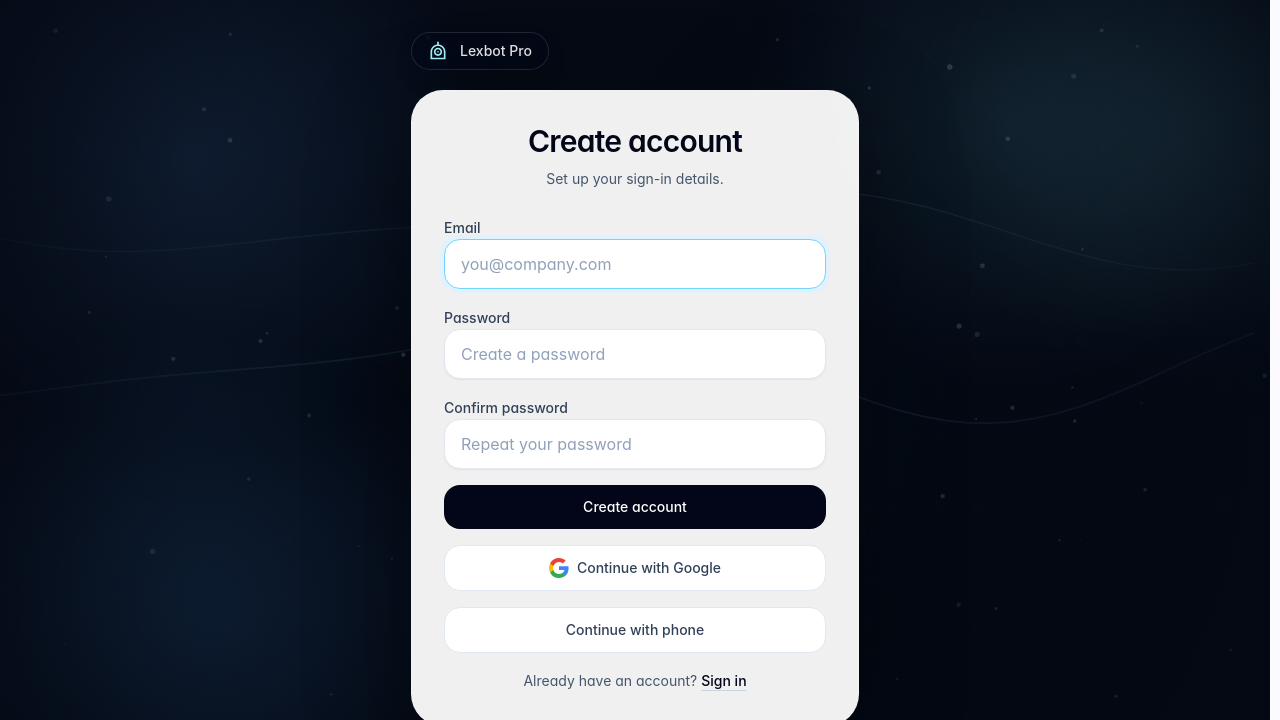
it: SignupPage › blocks submit when passwords don't match
The width and height of the screenshot is (1280, 720).
Type "new@example.com" into the field labelled "Email" at (635, 264), box [444,239,826,289]
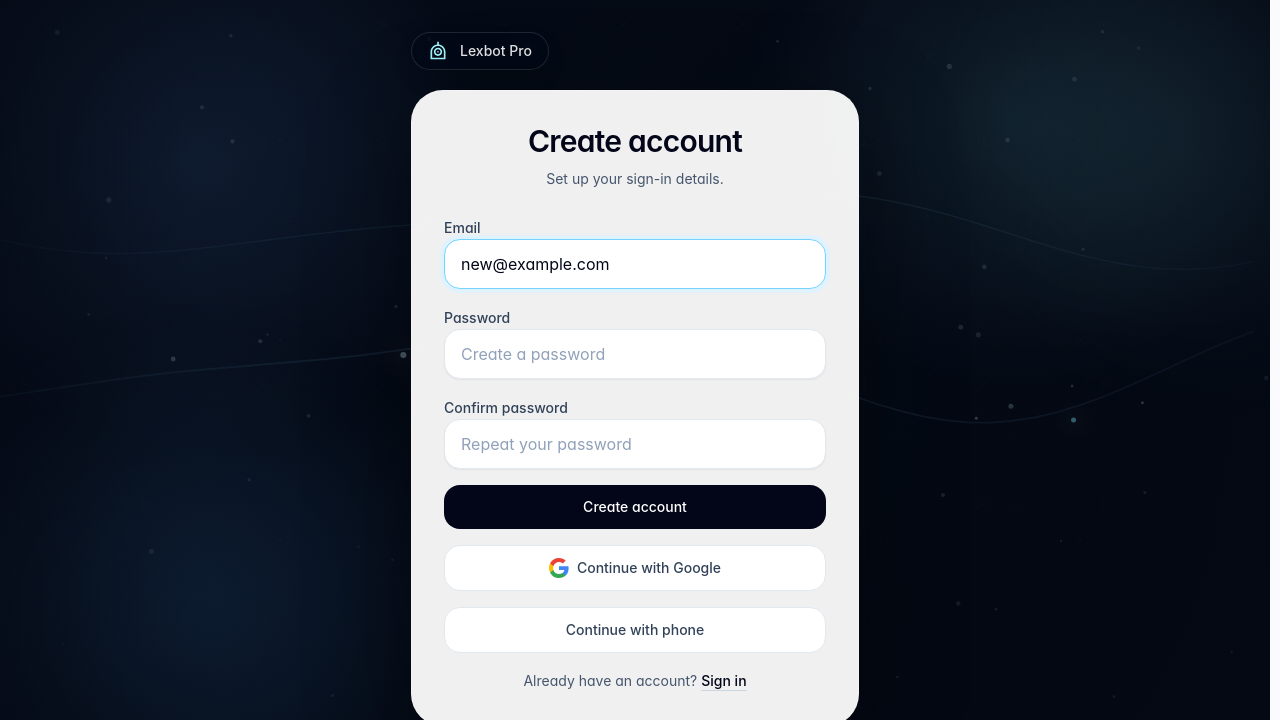
Type "secret123" into the password field labelled "Password" at (635, 354), box [444,329,826,379]
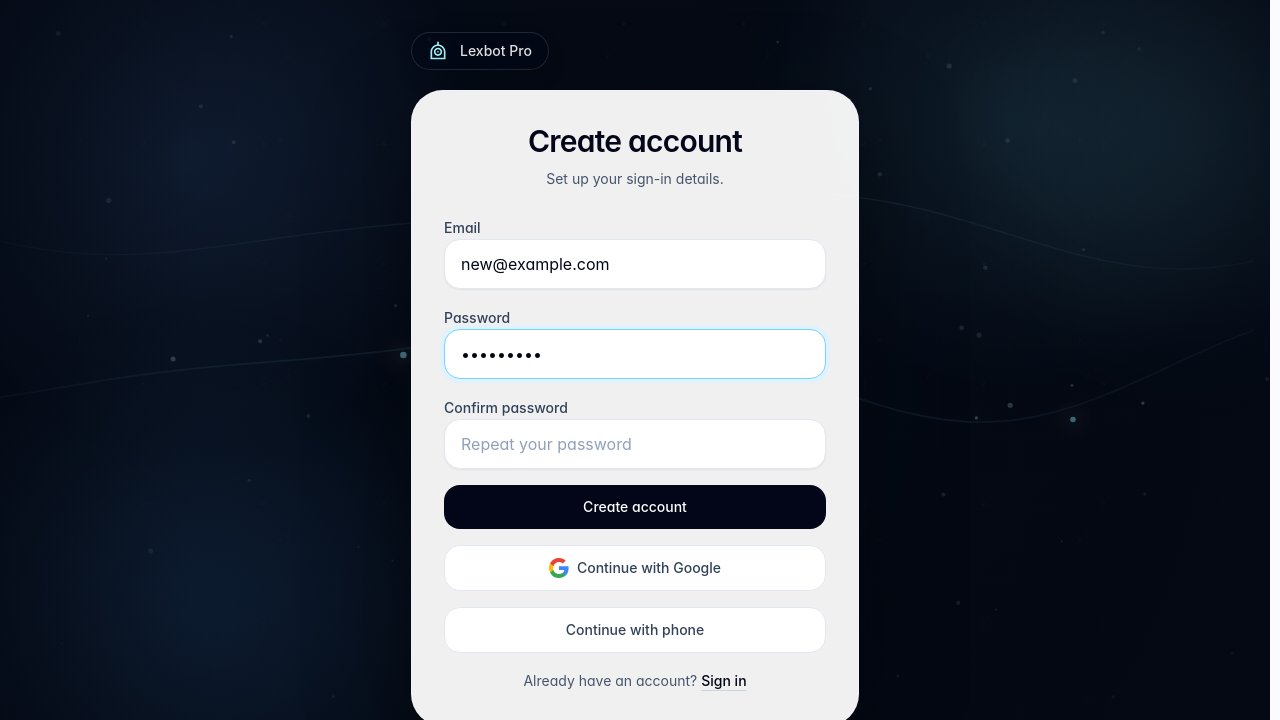
Type "secret124" into the password field labelled "Confirm password" at (635, 444), box [444,419,826,469]
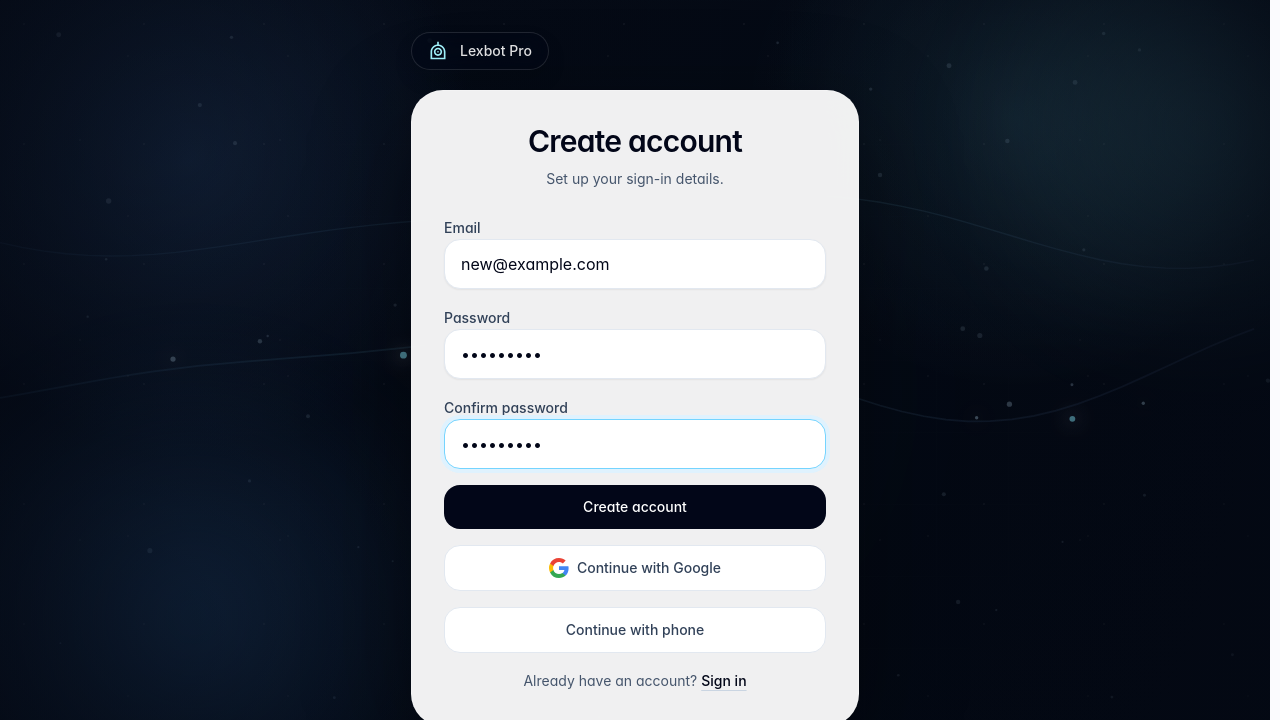
Click the button "Create account" at (635, 507), box [444,485,826,529]
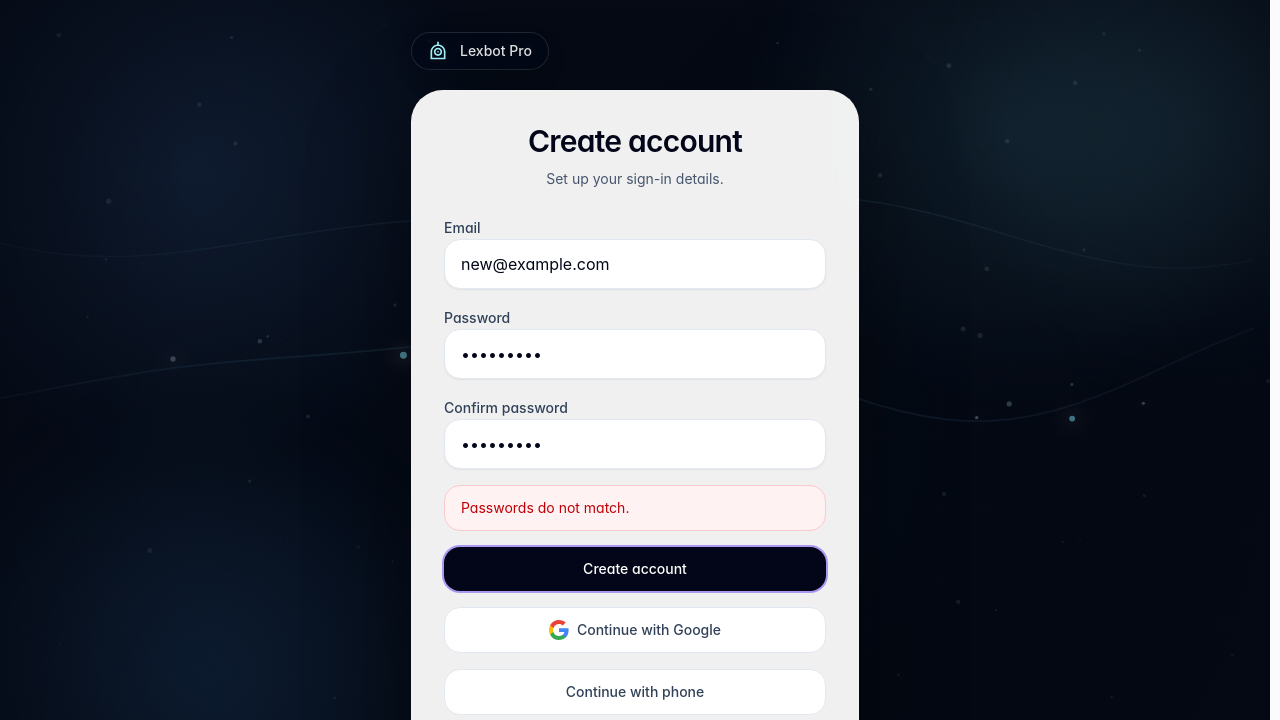
Expected: the text "Passwords do not match." is shown, [444,485,826,531]
